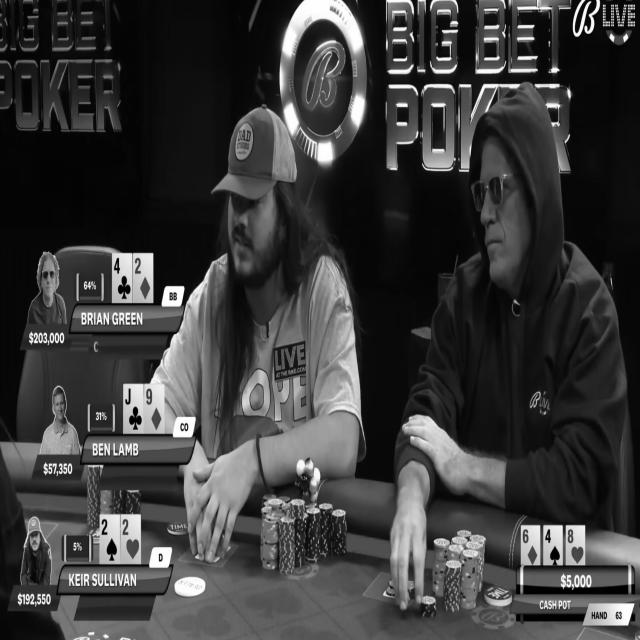2D: (134, 254, 153, 302)
2H: (121, 516, 140, 562)
2S: (100, 515, 120, 564)
4C: (113, 253, 132, 303)
4S: (545, 526, 561, 566)
6D: (522, 526, 539, 565)
8H: (567, 527, 585, 564)
9D: (145, 384, 164, 434)
JC: (124, 384, 142, 433)
